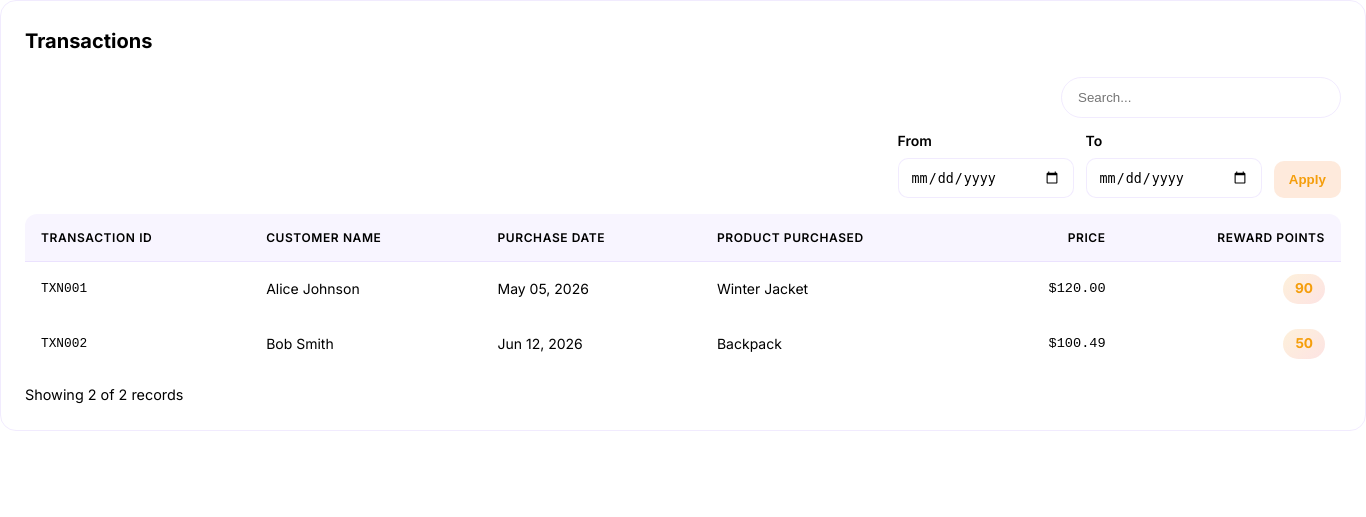
Scenario: TransactionsTable › shows validation message when only one date is selected and apply is clicked
The width and height of the screenshot is (1366, 517).
Type "2026-05-01" into the date field named "from date" at (986, 178), box [898,158,1074,198]
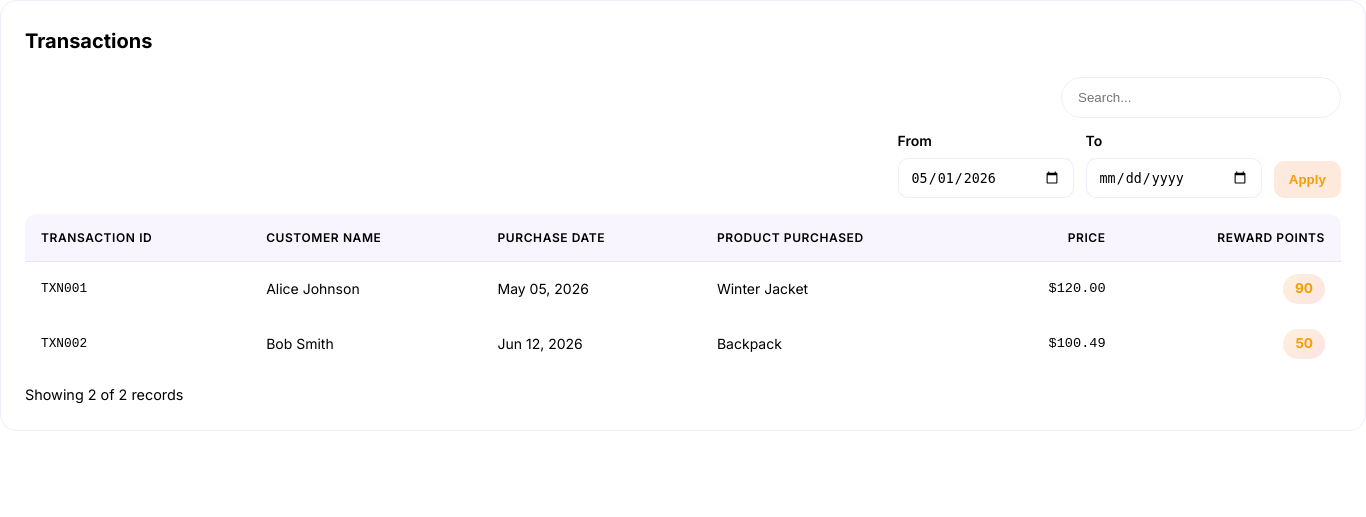
Click the button "Apply" at (1307, 179), box [1274,161,1341,198]
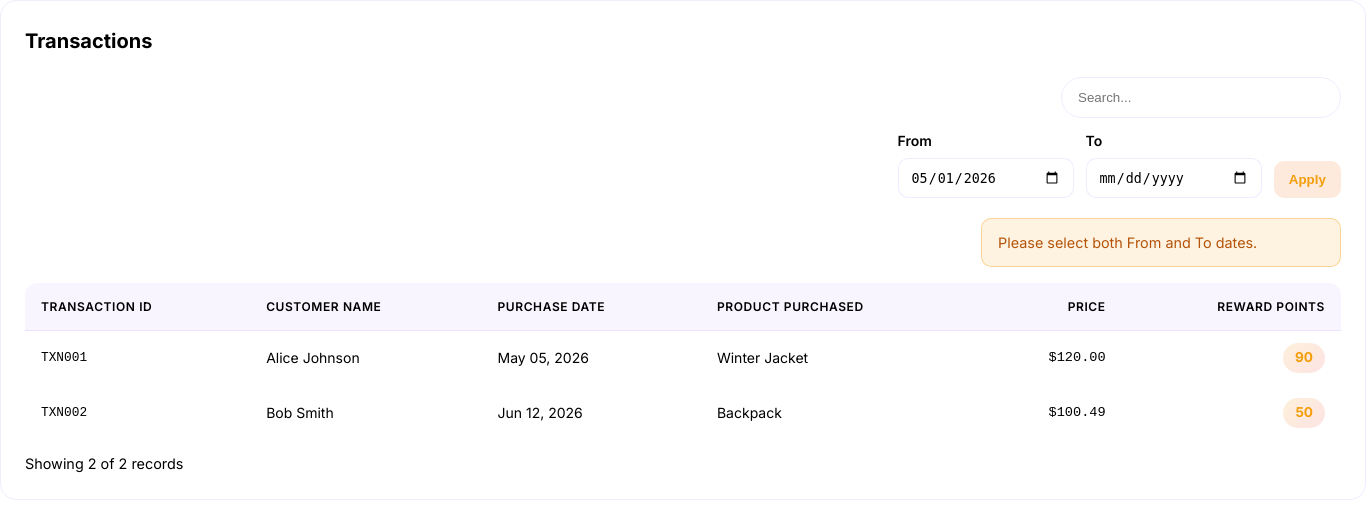
Result: the text "Please select both From and To dates." is shown at [981,218,1341,267]
